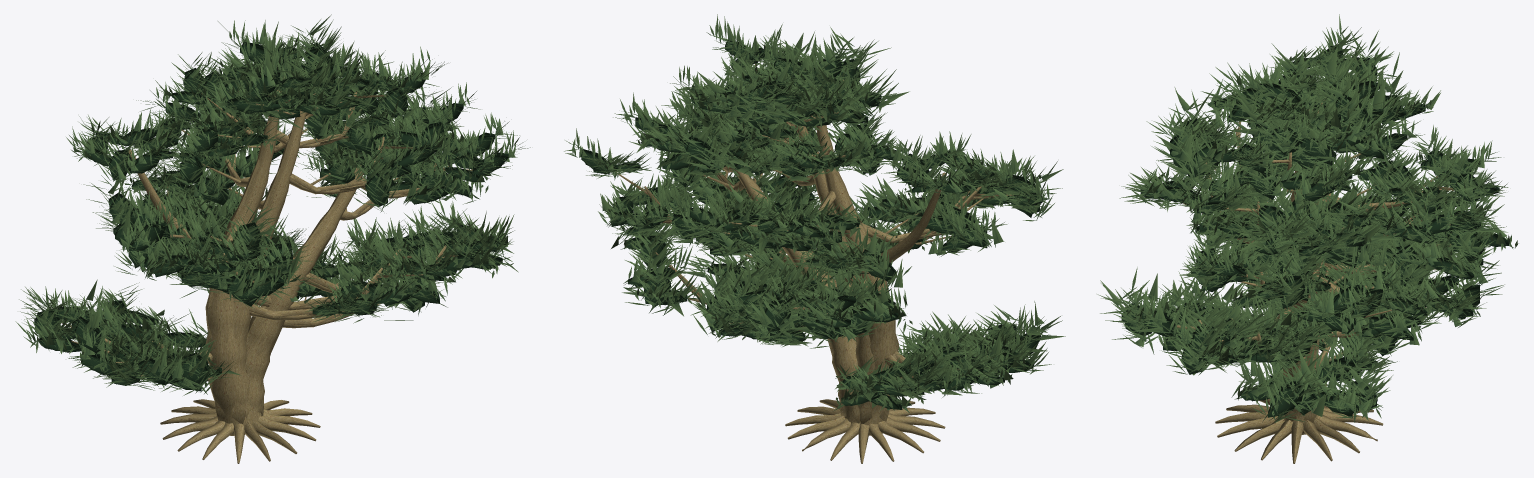
The model's file is gallery-pines.glb.
3 views of the same model, side by side, from view 1: azimuth 30°, elevation 25°; view 2: azimuth 150°, elevation 25°; view 3: azimuth 270°, elevation 25° (orthographic). The views are drawn at different scales.
Parts seen in each view (by area): view 1: pine-3-near-needles, pine-1-near-needles, pine-3-far-needles, pine-2-near-needles, pine-1-far-needles, pine-2-far-needles, pine-3-near-wood, pine-2-near-wood, pine-1-near-wood, pine-3-far-wood, pine-1-far-wood, pine-2-far-wood (+3 smaller); view 2: pine-3-near-needles, pine-2-near-needles, pine-1-near-needles, pine-3-far-needles, pine-2-far-needles, pine-1-far-needles, pine-3-near-wood, pine-2-near-wood, pine-3-far-wood, pine-1-roots, pine-1-near-wood, pine-3-roots (+3 smaller); view 3: pine-2-near-needles, pine-3-near-needles, pine-1-near-needles, pine-2-far-needles, pine-3-far-needles, pine-1-far-needles, pine-1-roots, pine-3-roots, pine-2-roots, pine-2-near-wood, pine-2-far-wood, pine-3-near-wood.
Part boxes in pixels (<box>): pine-3-near-needles: <box>15,20,462,393</box>; pine-1-near-needles: <box>19,19,484,387</box>; pine-3-far-needles: <box>37,27,456,390</box>; pine-2-near-needles: <box>72,75,530,395</box>; pine-1-far-needles: <box>31,14,479,375</box>; pine-2-far-needles: <box>65,87,515,391</box>; pine-3-near-wood: <box>72,90,413,435</box>; pine-2-near-wood: <box>152,164,456,420</box>; pine-1-near-wood: <box>105,93,411,418</box>; pine-3-far-wood: <box>71,77,423,423</box>; pine-1-far-wood: <box>62,97,412,363</box>; pine-2-far-wood: <box>159,142,472,418</box>; pine-3-near-needles: <box>669,14,1064,389</box>; pine-2-near-needles: <box>564,65,974,412</box>; pine-1-near-needles: <box>652,35,1062,397</box>; pine-3-far-needles: <box>685,23,1065,384</box>; pine-2-far-needles: <box>570,75,944,410</box>; pine-1-far-needles: <box>662,39,1063,395</box>; pine-3-near-wood: <box>749,64,1011,435</box>; pine-2-near-wood: <box>622,164,902,419</box>; pine-3-far-wood: <box>729,64,1013,423</box>; pine-1-roots: <box>785,407,935,460</box>; pine-1-near-wood: <box>746,125,981,435</box>; pine-3-roots: <box>797,406,945,461</box>; pine-2-near-needles: <box>1097,175,1504,422</box>; pine-3-near-needles: <box>1133,14,1518,366</box>; pine-1-near-needles: <box>1119,58,1507,371</box>; pine-2-far-needles: <box>1100,182,1487,422</box>; pine-3-far-needles: <box>1148,31,1507,363</box>; pine-1-far-needles: <box>1126,58,1505,372</box>; pine-1-roots: <box>1226,404,1383,461</box>; pine-3-roots: <box>1217,399,1377,463</box>; pine-2-roots: <box>1215,407,1373,460</box>; pine-2-near-wood: <box>1177,265,1426,434</box>; pine-2-far-wood: <box>1177,227,1394,422</box>; pine-3-near-wood: <box>1215,109,1452,416</box>.
Size of the model in its own units: 5.34 by 4.08 by 4.03.
Materials: 2 (1 with a texture image).
